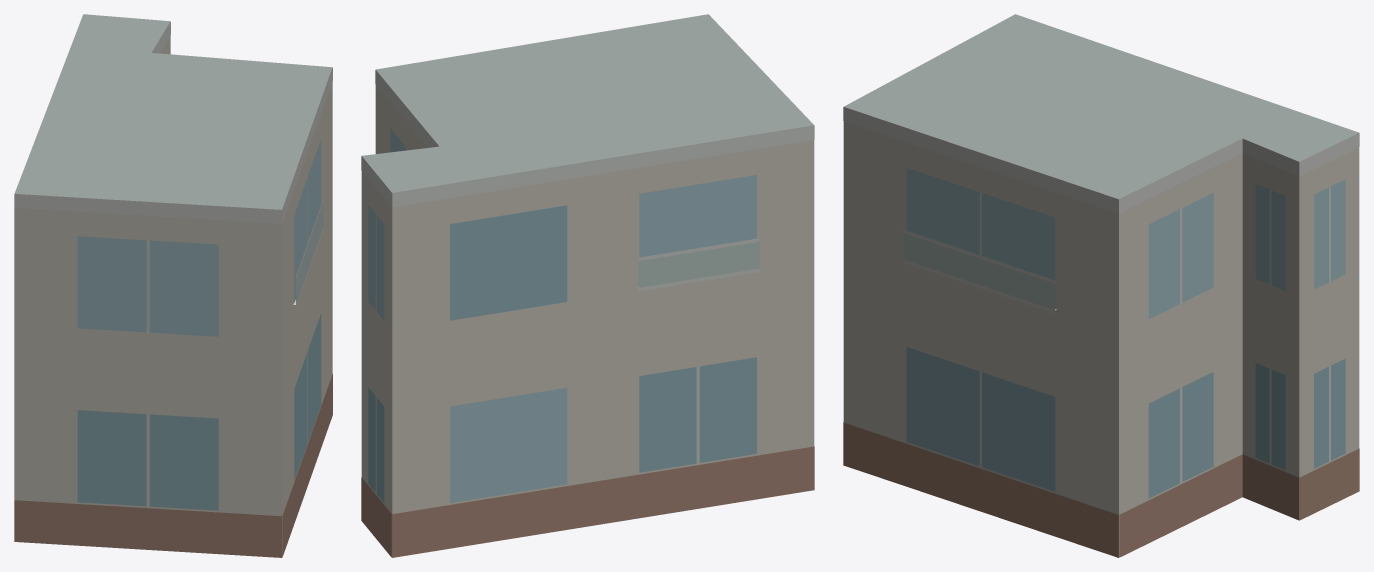
File: survey-upis-32818178.glb
3 views of the same model, side by side, from view 1: azimuth 30°, elevation 25°; view 2: azimuth 150°, elevation 25°; view 3: azimuth 270°, elevation 25° (orthographic). The views are drawn at different scales.
Visible parts, largest first — view 1: survey-upis-32818178.tmp; view 2: survey-upis-32818178.tmp; view 3: survey-upis-32818178.tmp.
Boxes of the visible parts, x1,y1,x2,y2 form: survey-upis-32818178.tmp: [14, 14, 332, 557]; survey-upis-32818178.tmp: [361, 14, 814, 557]; survey-upis-32818178.tmp: [843, 14, 1359, 557].
Size of the model in its own units: 6.77 by 6.1 by 7.96.
